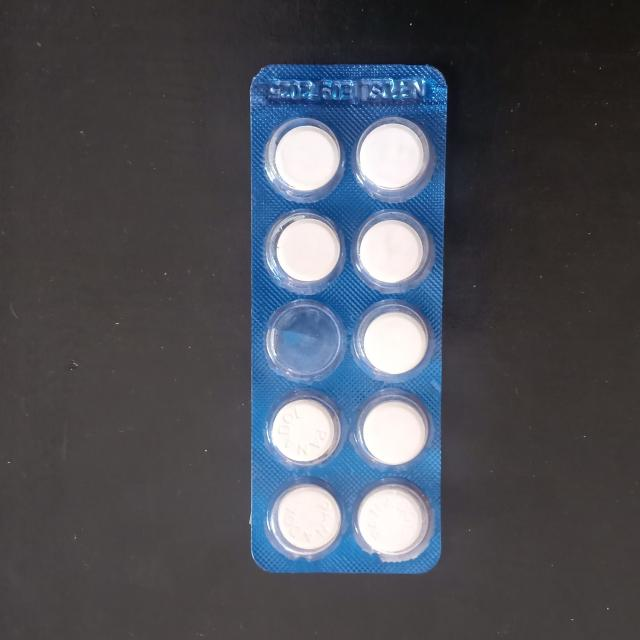defect: (263, 300, 351, 386)
